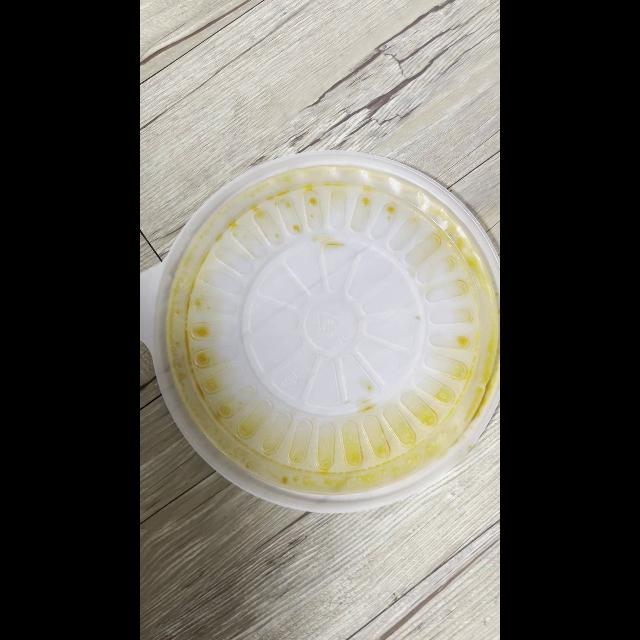dirty: (140, 160, 500, 506)
